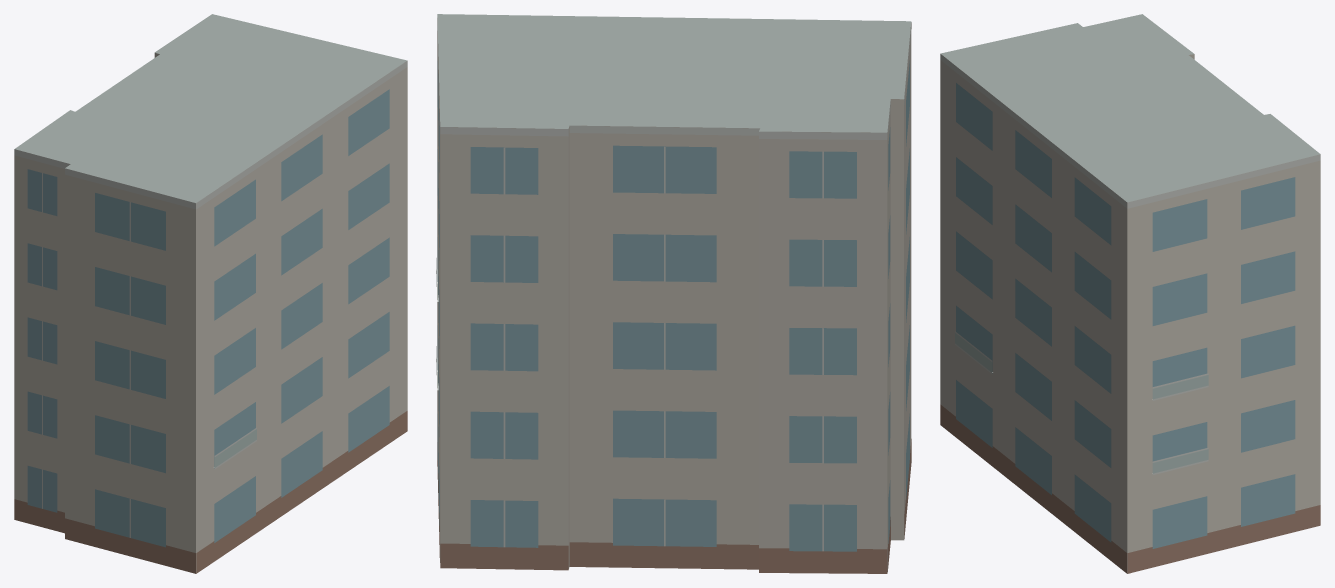
Rendered from survey-upis-32891441.glb.
3 views of the same model, side by side, from view 1: azimuth 30°, elevation 25°; view 2: azimuth 150°, elevation 25°; view 3: azimuth 270°, elevation 25° (orthographic). The views are drawn at different scales.
Visible parts, largest first — view 1: survey-upis-32891441.tmp; view 2: survey-upis-32891441.tmp; view 3: survey-upis-32891441.tmp.
Boxes of the visible parts, left/top/right/bottom form: survey-upis-32891441.tmp: left=14, top=14, right=407, bottom=573; survey-upis-32891441.tmp: left=436, top=14, right=911, bottom=573; survey-upis-32891441.tmp: left=940, top=14, right=1320, bottom=573.
Bounding box in the file's own units: 15.69 × 14.4 × 13.38.
